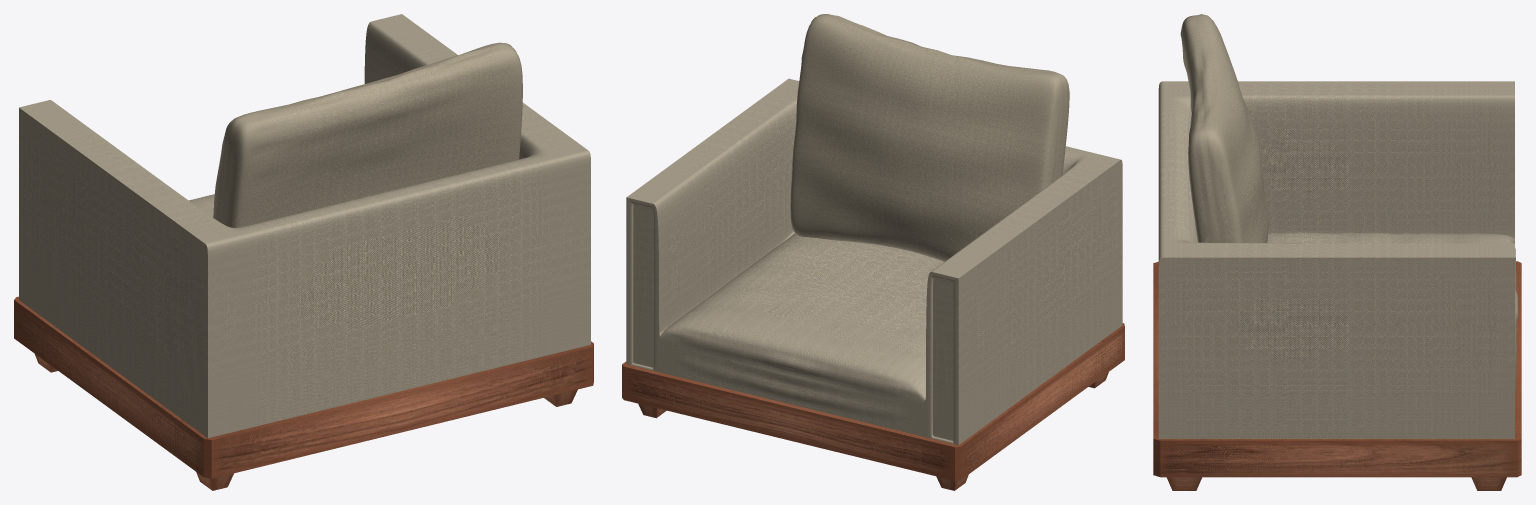
The model's file is sofa2-transformed.glb.
3 renders of one model, left to right at view 1: azimuth 30°, elevation 25°; view 2: azimuth 150°, elevation 25°; view 3: azimuth 270°, elevation 25°, orthographic. The views are drawn at different scales.
Parts seen in each view (by area): view 1: Object_4, Object_3; view 2: Object_4, Object_3; view 3: Object_4, Object_3.
Boxes of the visible parts, <box> form: Object_4: <box>19,14,590,438</box>; Object_3: <box>14,296,593,490</box>; Object_4: <box>626,14,1122,445</box>; Object_3: <box>622,323,1124,490</box>; Object_4: <box>1158,14,1518,438</box>; Object_3: <box>1153,261,1521,490</box>.
Size of what is drawn, in the model's own units: 1.01 by 0.8872 by 0.8752.
2 materials, 2 textured.
